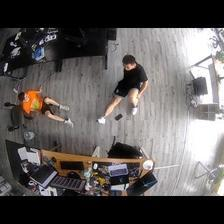fall: (96, 54, 149, 126), (17, 85, 75, 128)
